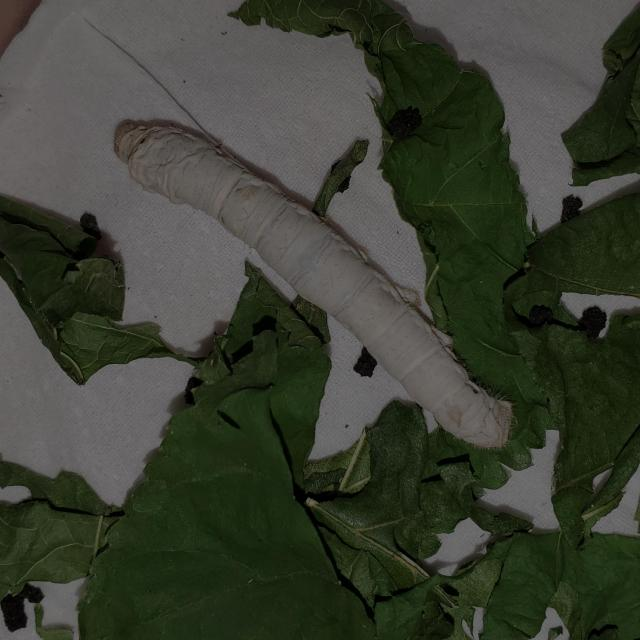Healthy: (107, 109, 521, 455)
